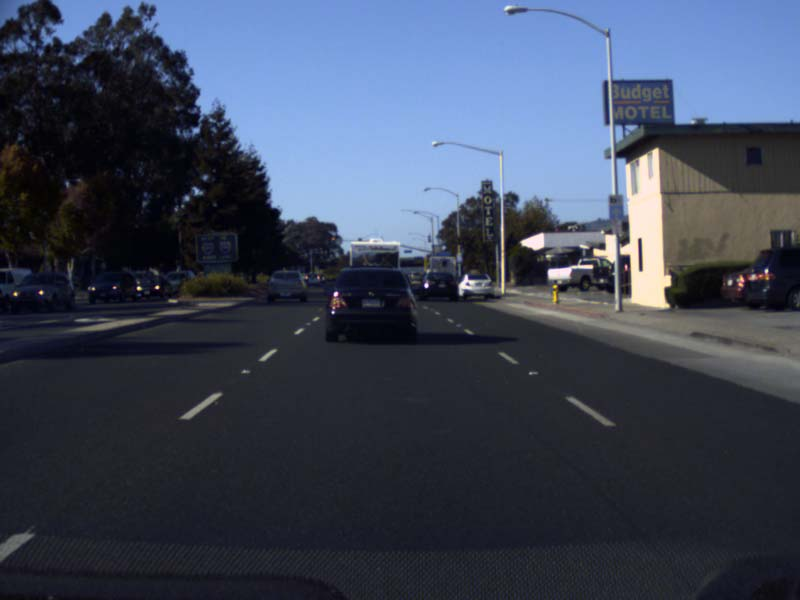Red: (330, 237, 335, 245)
